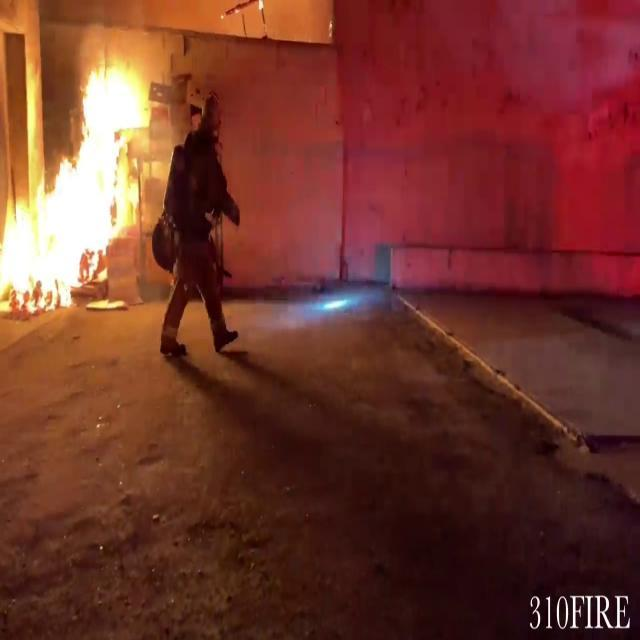Fire: (0, 47, 159, 312)
